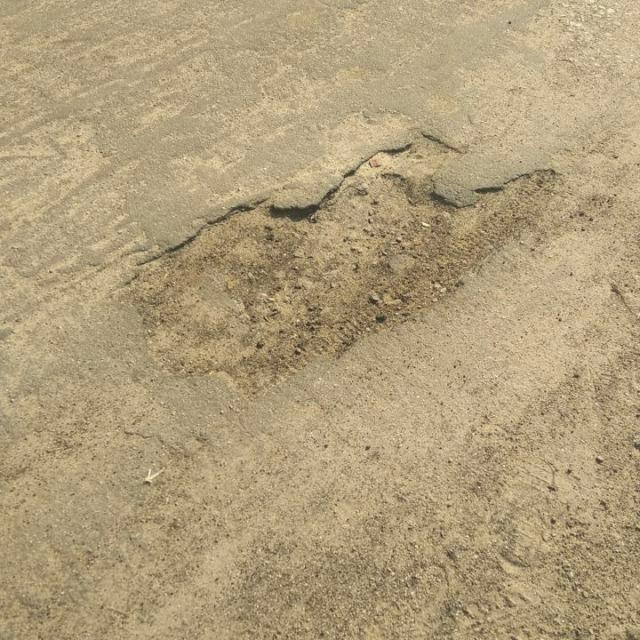Pothole: (112, 125, 561, 407)
